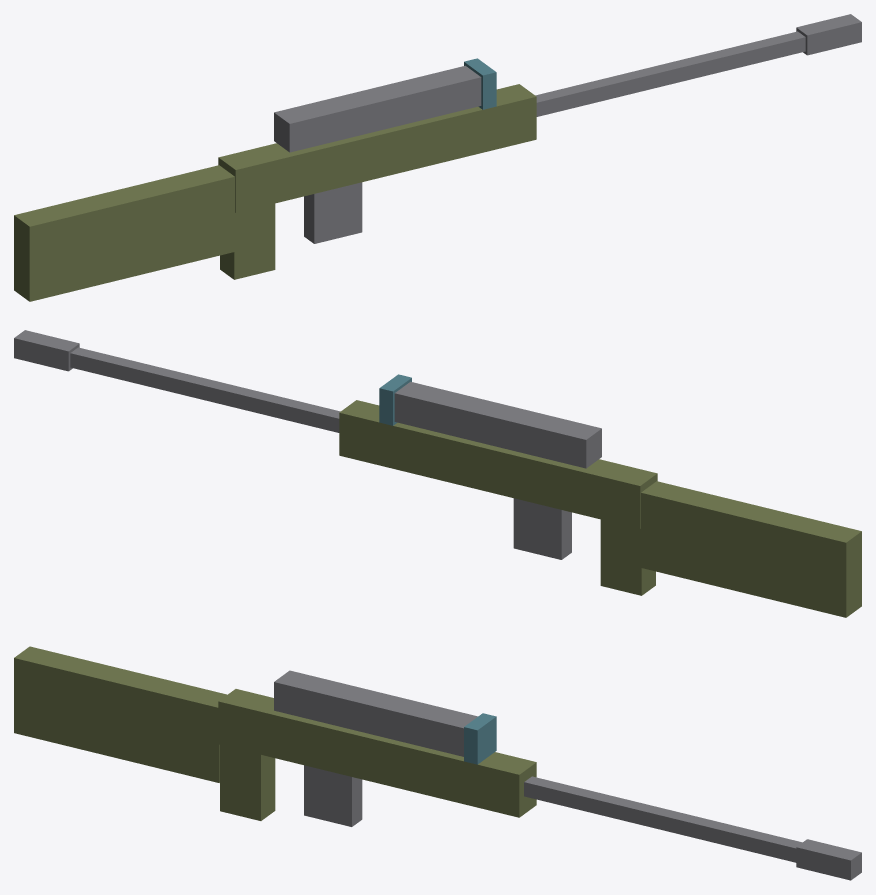
The model's file is Sniper.glb.
3 views of the same model, one above another, from view 1: azimuth 30°, elevation 25°; view 2: azimuth 150°, elevation 25°; view 3: azimuth 330°, elevation 25° (orthographic).
Visible parts, largest first — view 1: Sniper; view 2: Sniper; view 3: Sniper.
Boxes of the visible parts, left/top/right/bottom form: Sniper: left=14, top=14, right=861, bottom=301; Sniper: left=14, top=330, right=861, bottom=617; Sniper: left=14, top=646, right=861, bottom=880.
Size of the model in its own units: 1.22 by 0.204 by 0.048.
